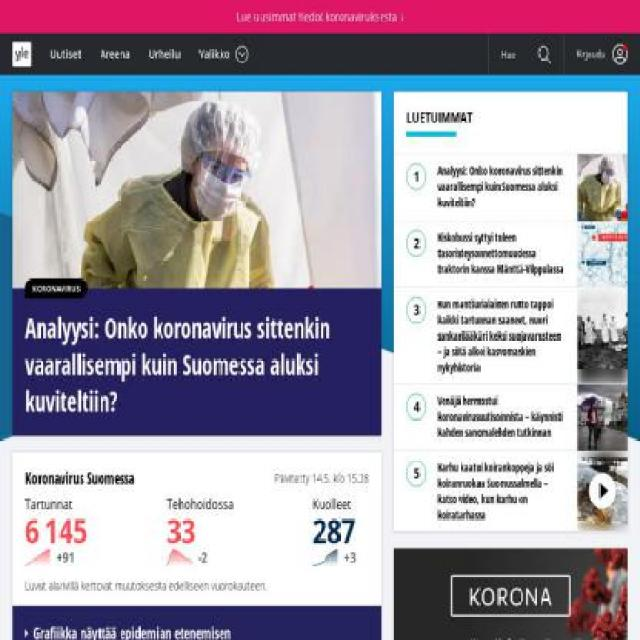button: (12, 92, 382, 436), (0, 0, 640, 34), (394, 288, 628, 375), (394, 451, 628, 523), (394, 154, 628, 212), (394, 221, 628, 279), (394, 384, 628, 442), (564, 33, 639, 76), (531, 33, 564, 75), (24, 278, 88, 299), (91, 42, 140, 66), (49, 42, 91, 66), (139, 42, 181, 66), (12, 42, 31, 66)
field: (488, 33, 532, 75)
